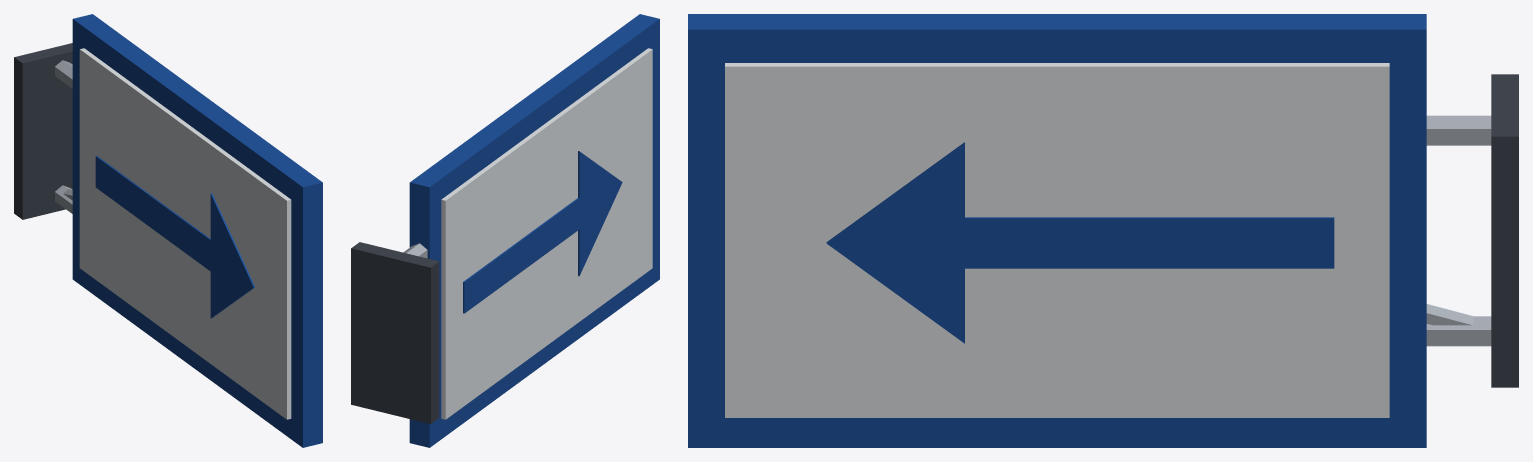
File: sign_blade_sign.glb
3 views of the same model, side by side, from view 1: azimuth 30°, elevation 25°; view 2: azimuth 150°, elevation 25°; view 3: azimuth 270°, elevation 25° (orthographic). The views are drawn at different scales.
Visible parts, largest first — view 1: sign_blade_sign; view 2: sign_blade_sign; view 3: sign_blade_sign.
Part boxes in pixels (x1,y1,x2,y2): sign_blade_sign: (14, 14, 322, 447); sign_blade_sign: (351, 14, 659, 447); sign_blade_sign: (688, 14, 1518, 447).
Size of the model in its own units: 0.16 by 0.5 by 0.9.
